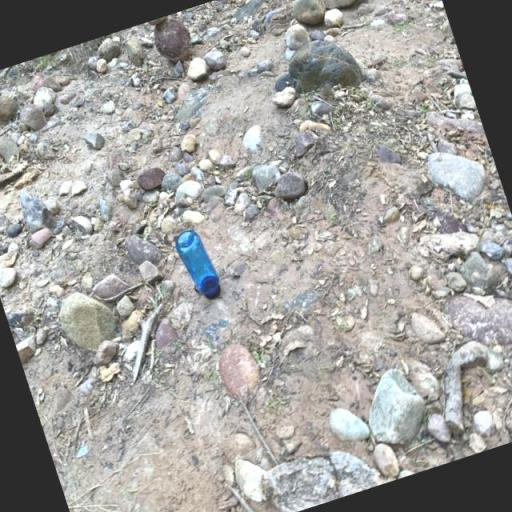bottle: (172, 225, 225, 305)
